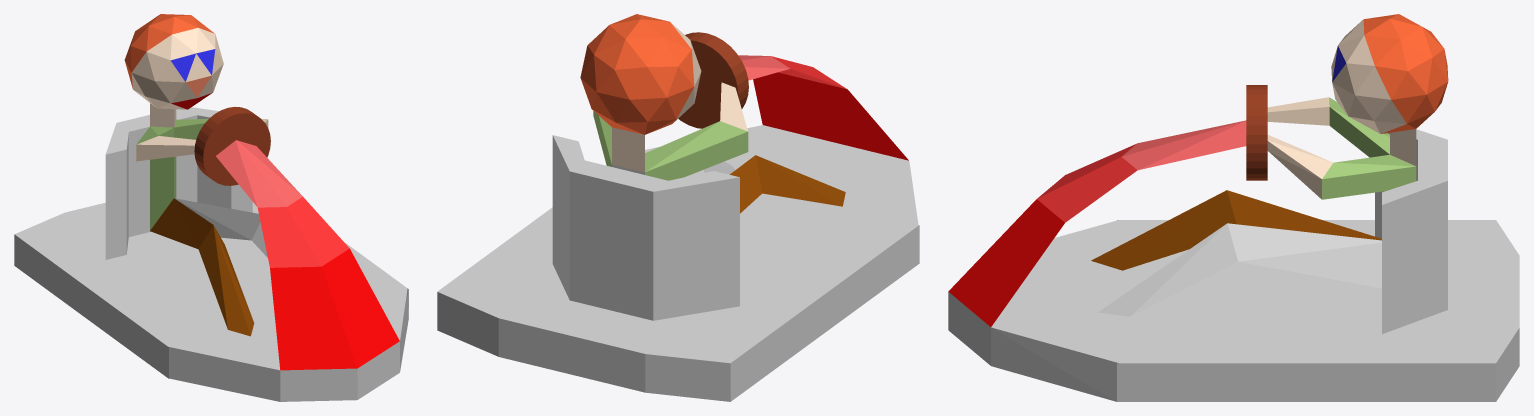
Rendered from gokart.fbx.
The picture shows the model from 3 angles, left to right: view 1: azimuth 30°, elevation 25°; view 2: azimuth 150°, elevation 25°; view 3: azimuth 270°, elevation 25°; orthographic projection. The views are drawn at different scales.
Parts seen in each view (by area): view 1: Model; view 2: Model; view 3: Model.
Boxes of the visible parts, x1,y1,x2,y2 form: Model: (14,14,408,401); Model: (437,14,919,401); Model: (948,14,1519,401).
Size of the model in its own units: 1.59 by 1.6 by 2.67.
